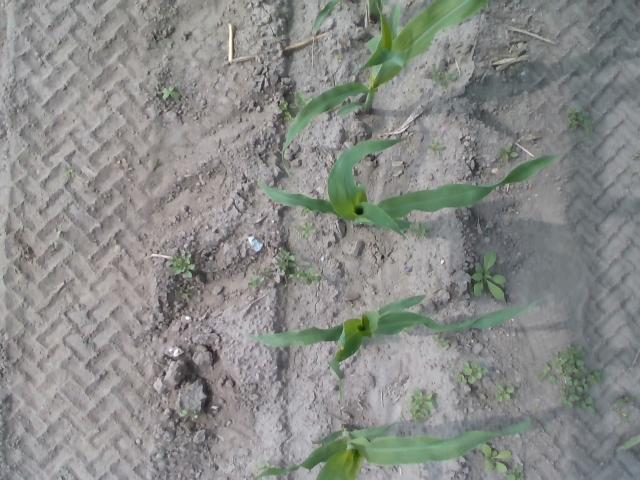Maize: (279, 0, 526, 178), (246, 294, 551, 408), (259, 136, 576, 238), (252, 416, 534, 479)
Weeds: (543, 342, 600, 415), (470, 252, 514, 310), (482, 444, 524, 478), (609, 391, 640, 425), (406, 386, 434, 423), (248, 264, 282, 294), (460, 359, 490, 388), (170, 252, 198, 280), (292, 266, 324, 288), (272, 249, 298, 276), (157, 82, 188, 104), (284, 93, 308, 120), (564, 110, 594, 130), (426, 140, 448, 160), (434, 70, 456, 90), (300, 220, 316, 246), (432, 336, 456, 353), (498, 382, 514, 404), (500, 147, 526, 160), (179, 408, 202, 421)
